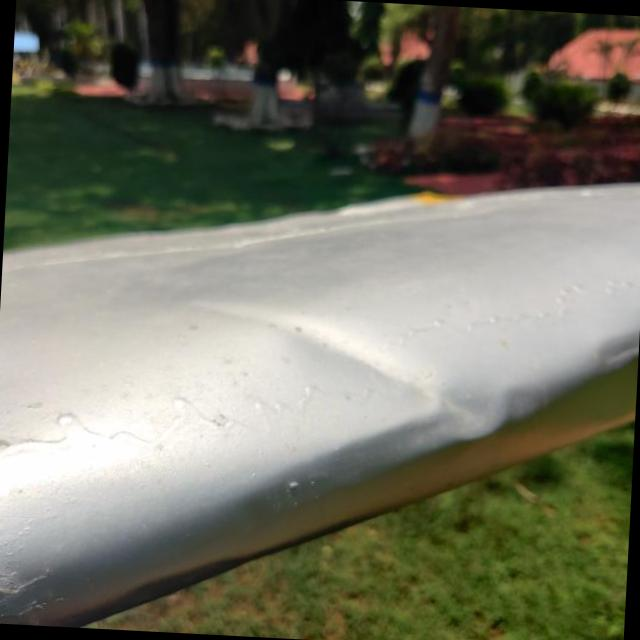Dent: (248, 291, 550, 466), (593, 330, 639, 377)
